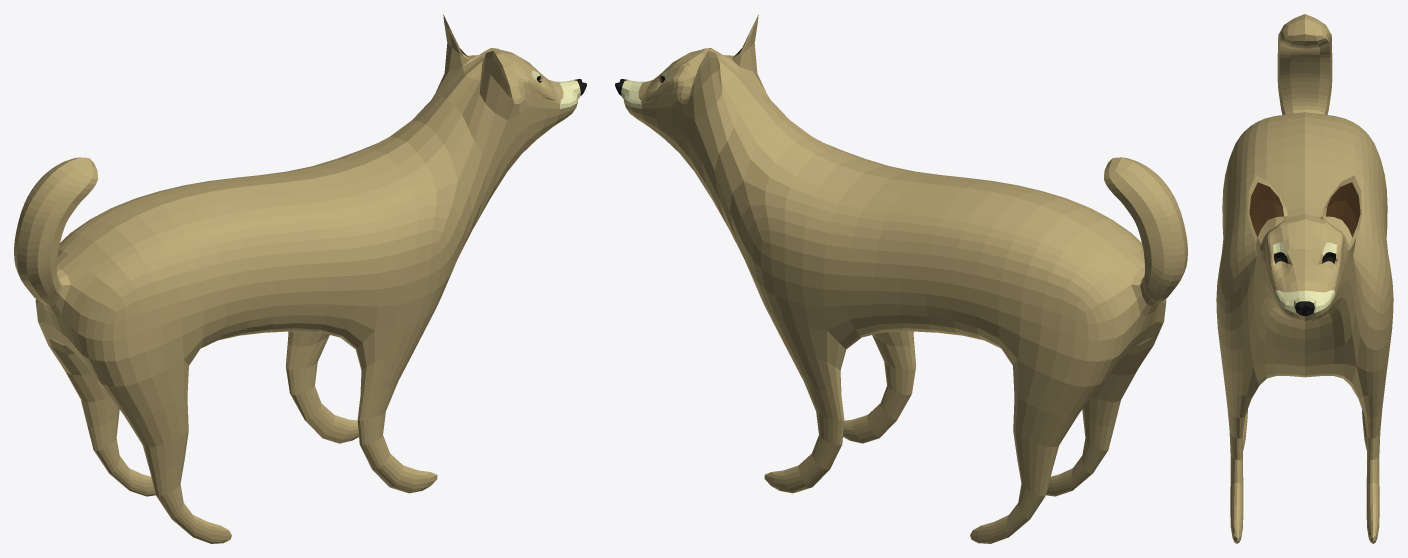
File: bigbabababaab.glb
3 renders of one model, left to right at view 1: azimuth 30°, elevation 25°; view 2: azimuth 150°, elevation 25°; view 3: azimuth 270°, elevation 25°, orthographic.
Parts seen in each view (by area): view 1: Cube.006; view 2: Cube.006; view 3: Cube.006.
Part boxes in pixels (left/top/right/bottom): Cube.006: left=14, top=14, right=586, bottom=543; Cube.006: left=615, top=14, right=1187, bottom=543; Cube.006: left=1216, top=14, right=1393, bottom=543.
Bounding box in the file's own units: 8.66 × 6.12 × 2.38.
